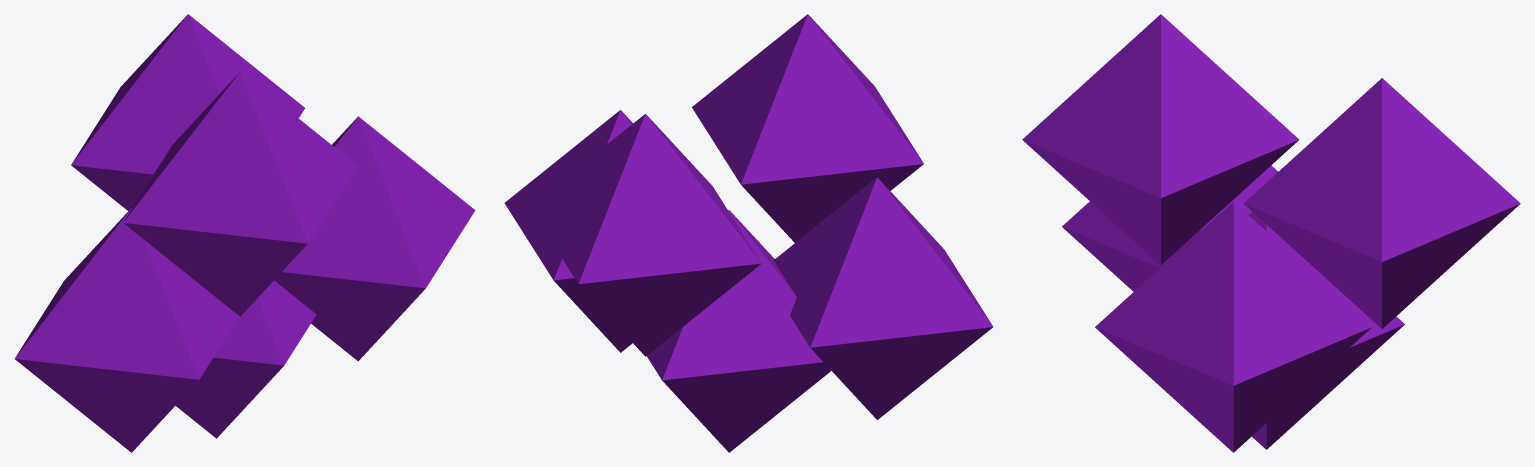
The model's file is poison_cloud.obj.
The picture shows the model from 3 angles, left to right: view 1: azimuth 30°, elevation 25°; view 2: azimuth 150°, elevation 25°; view 3: azimuth 270°, elevation 25°; orthographic projection. The views are drawn at different scales.
Visible parts, largest first — view 1: models/vfx/poison_cloud.obj; view 2: models/vfx/poison_cloud.obj; view 3: models/vfx/poison_cloud.obj.
Boxes of the visible parts, x1,y1,x2,y2 form: models/vfx/poison_cloud.obj: (14,14,475,452); models/vfx/poison_cloud.obj: (504,14,993,452); models/vfx/poison_cloud.obj: (1022,14,1520,452).
Size of the model in its own units: 1.71 by 1.41 by 1.51.
